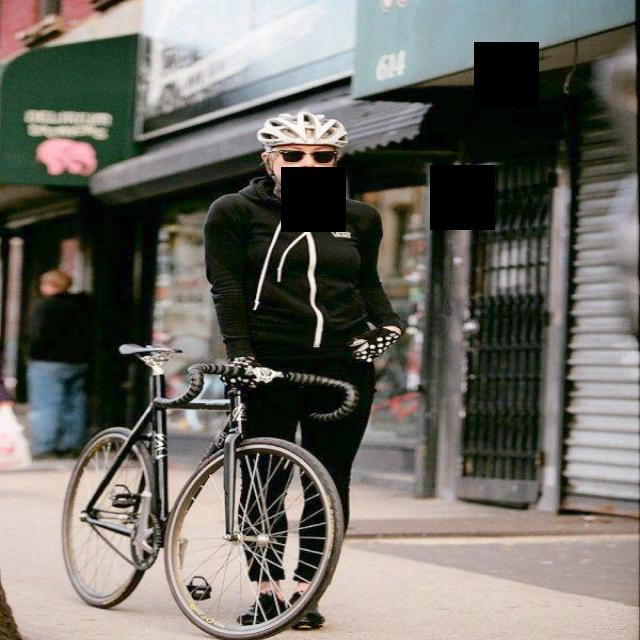Helmet: (256, 110, 352, 186)
